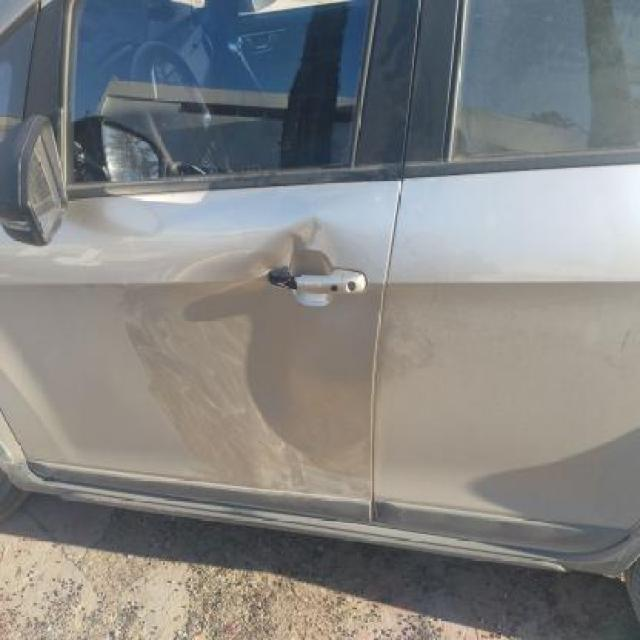car damage: (146, 204, 366, 486)
